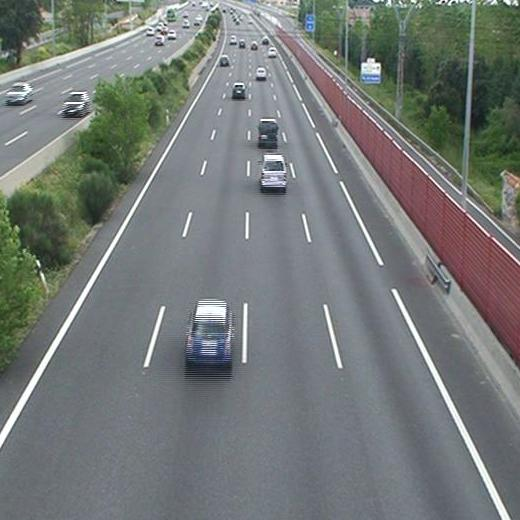car: (186, 302, 231, 363), (261, 155, 287, 187), (232, 82, 246, 96), (255, 68, 266, 79), (219, 55, 228, 66), (267, 47, 276, 57), (229, 35, 236, 44), (250, 42, 258, 49), (238, 40, 244, 47)
van: (258, 119, 277, 145)
